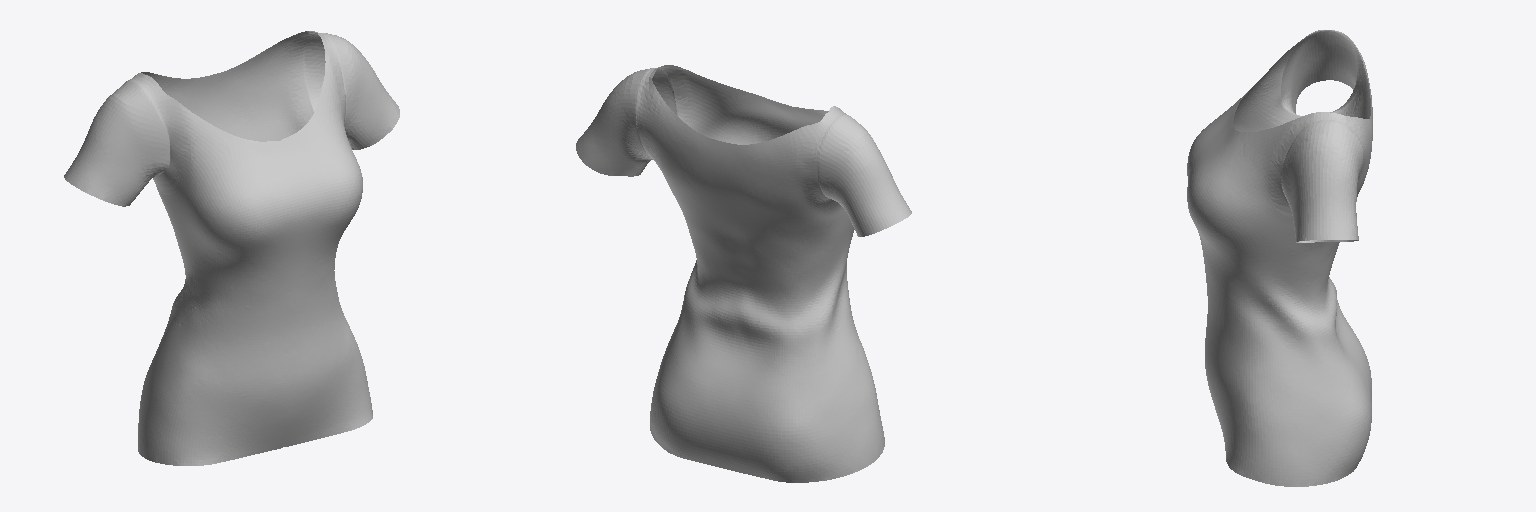
File: shirt (light mesh).OBJ
The picture shows the model from 3 angles: view 1: azimuth 30°, elevation 25°; view 2: azimuth 150°, elevation 25°; view 3: azimuth 270°, elevation 25°; orthographic projection.
Visible parts, largest first — view 1: ZBrush_defualt_group; view 2: ZBrush_defualt_group; view 3: ZBrush_defualt_group.
Boxes of the visible parts, <box> form: ZBrush_defualt_group: <box>64,31,399,465</box>; ZBrush_defualt_group: <box>576,65,911,482</box>; ZBrush_defualt_group: <box>1187,30,1372,486</box>.
Bounding box in the file's own units: 547 × 593 × 269.